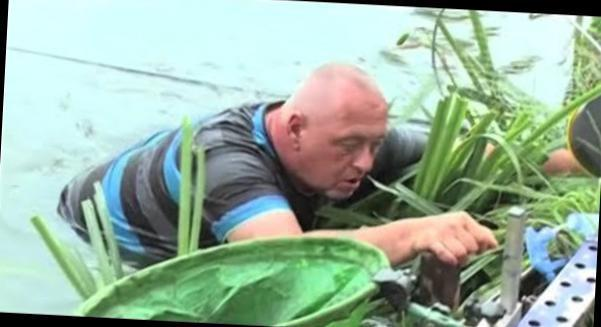Drunk: (311, 90, 383, 201)
